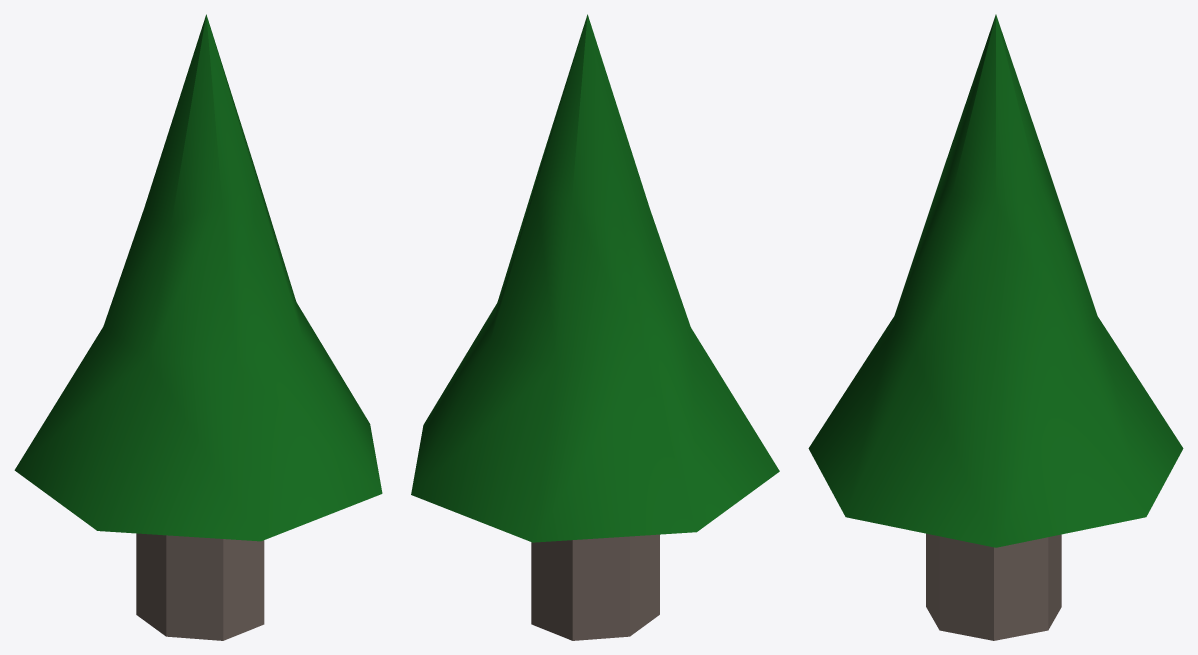
The model's file is tree5.fbx.
3 views of the same model, side by side, from view 1: azimuth 30°, elevation 25°; view 2: azimuth 150°, elevation 25°; view 3: azimuth 270°, elevation 25° (orthographic).
Parts seen in each view (by area): view 1: pCone2; view 2: pCone2; view 3: pCone2.
Boxes of the visible parts, <box> form: pCone2: <box>14,14,382,640</box>; pCone2: <box>411,14,779,640</box>; pCone2: <box>808,14,1183,640</box>.
Size of the model in its own units: 50.96 by 92.54 by 52.27.
